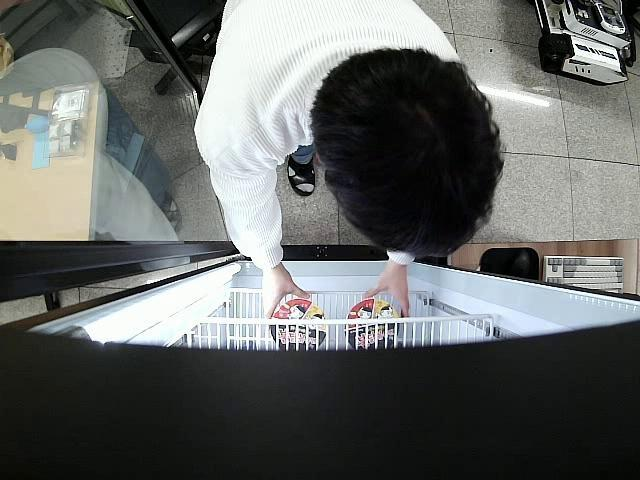07_buldak_L: (346, 299, 404, 352), (271, 300, 330, 352)
